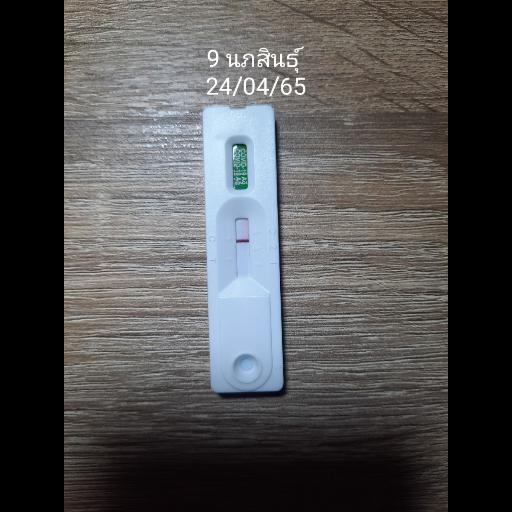Neg: (201, 105, 281, 393)
